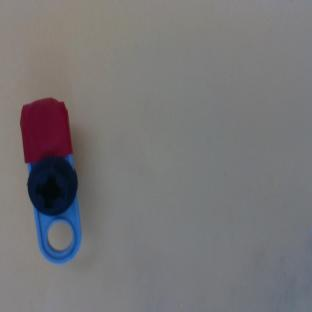part_1_good: (15, 95, 89, 266)
